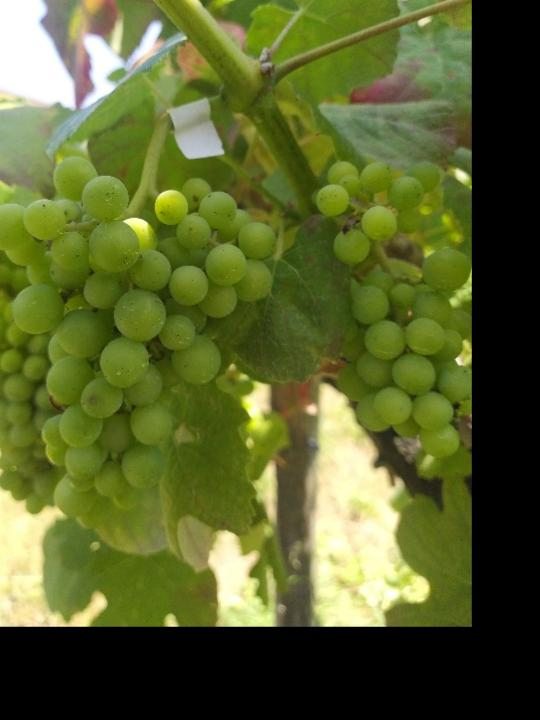grape: (0, 154, 280, 534)
